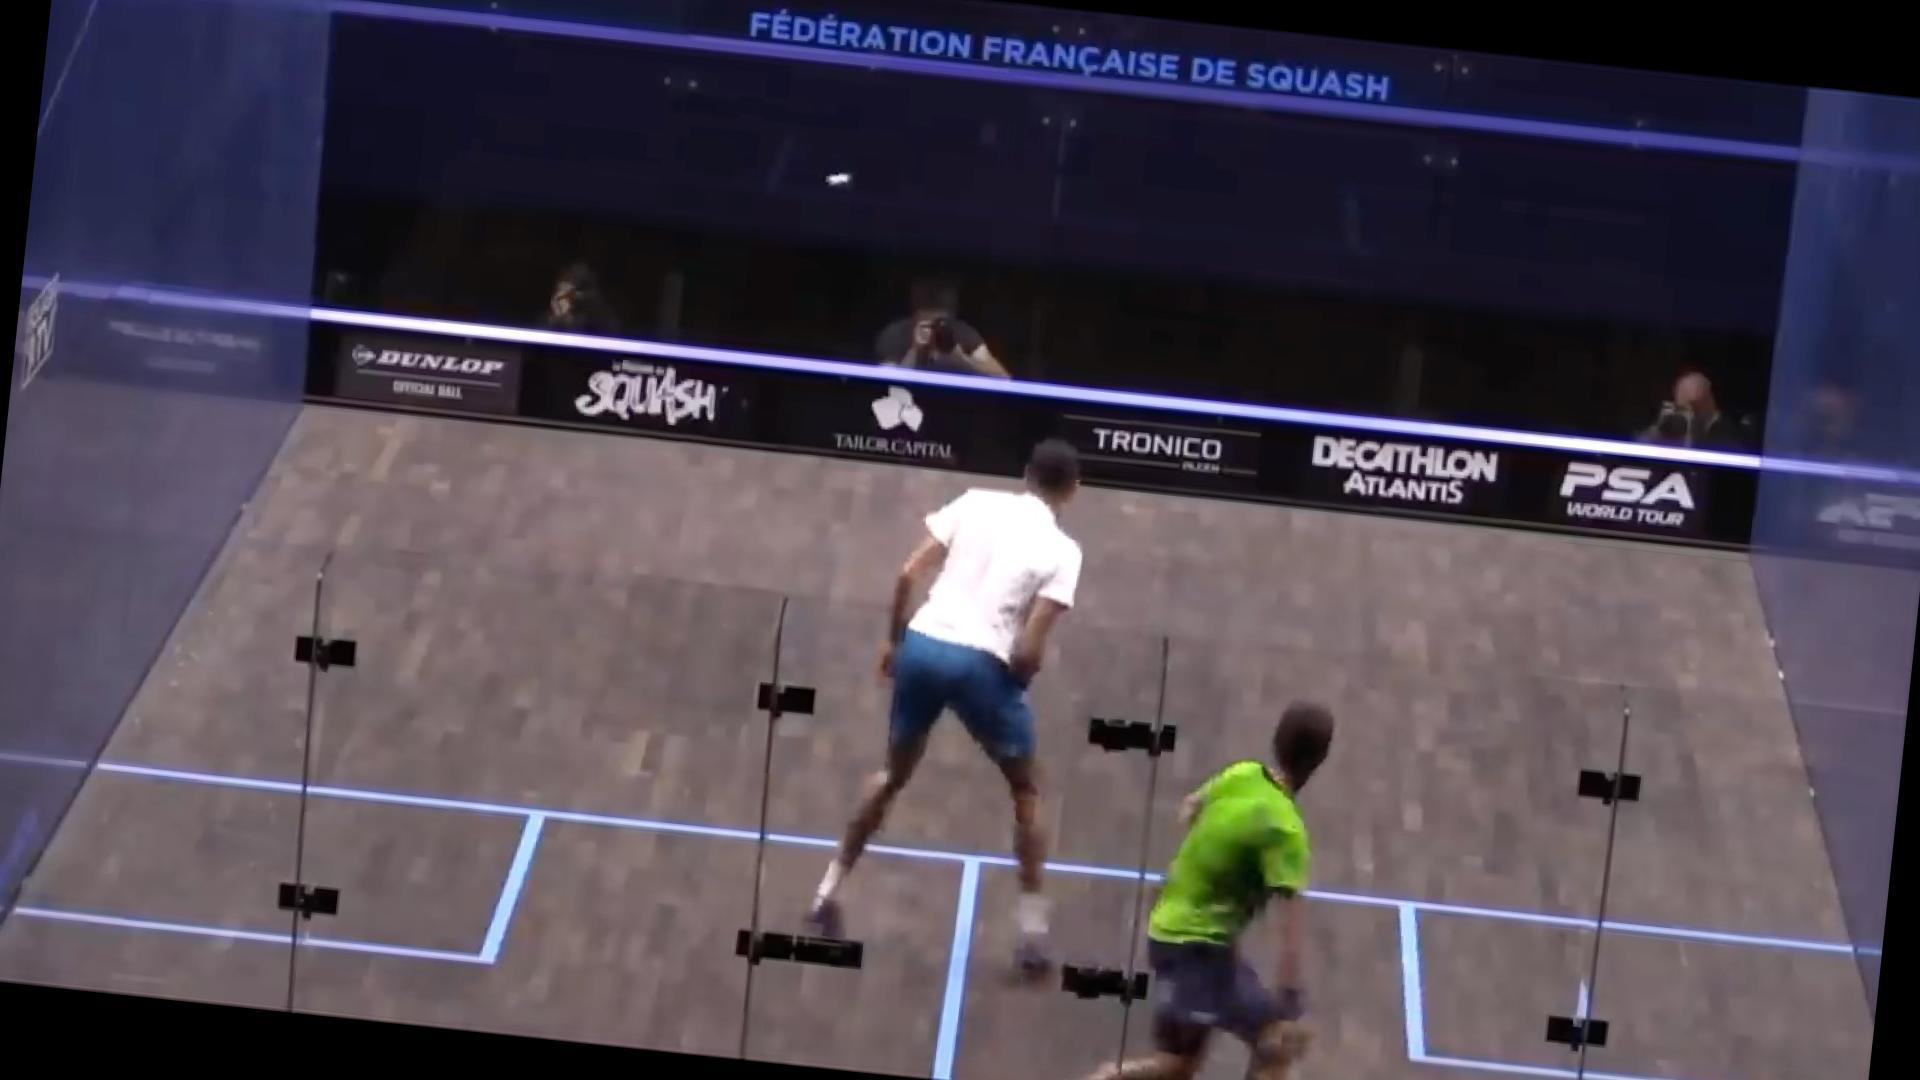Squash-Ball: (807, 148, 868, 212)
